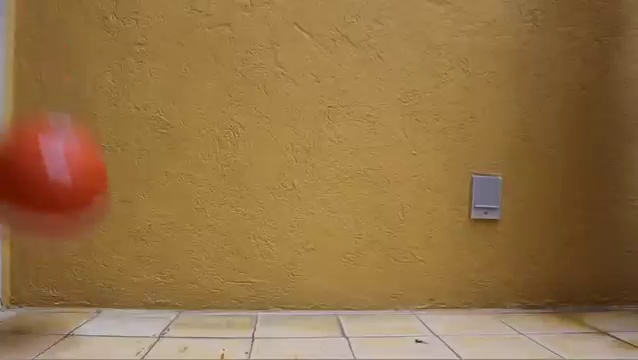ball: (2, 108, 120, 244)
